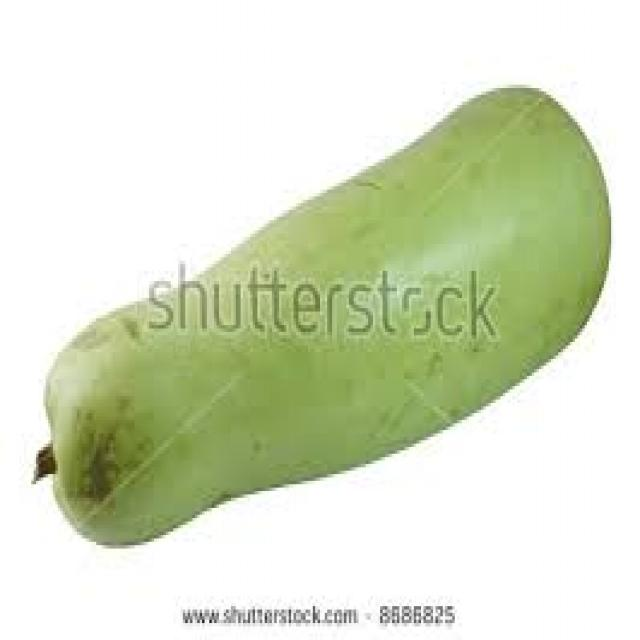organic waste: (29, 81, 609, 542)
